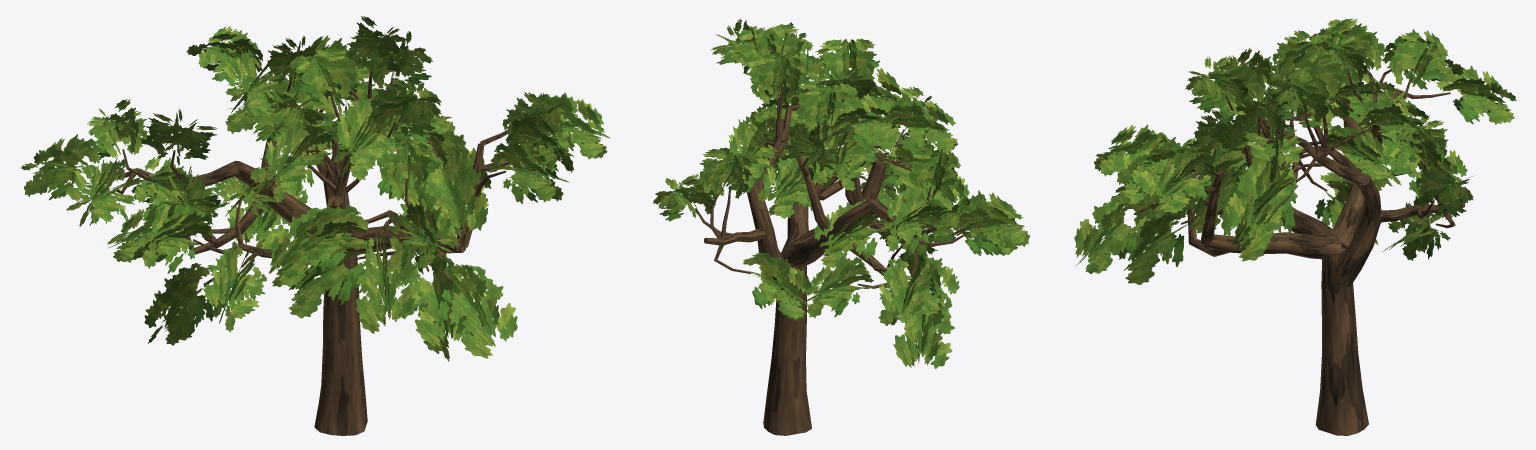
Rendered from SM_Grassland_Oak_A.glb.
3 views of the same model, side by side, from view 1: azimuth 30°, elevation 25°; view 2: azimuth 150°, elevation 25°; view 3: azimuth 270°, elevation 25° (orthographic). The views are drawn at different scales.
Parts seen in each view (by area): view 1: SM_Grassland_Oak_A; view 2: SM_Grassland_Oak_A; view 3: SM_Grassland_Oak_A.
Part boxes in pixels (x1=…): SM_Grassland_Oak_A: x1=21, y1=16, x2=609, y2=435; SM_Grassland_Oak_A: x1=653, y1=18, x2=1029, y2=435; SM_Grassland_Oak_A: x1=1074, y1=18, x2=1516, y2=435.
Size of the model in its own units: 4.48 by 3.8 by 4.1.
2 materials, 2 textured.
